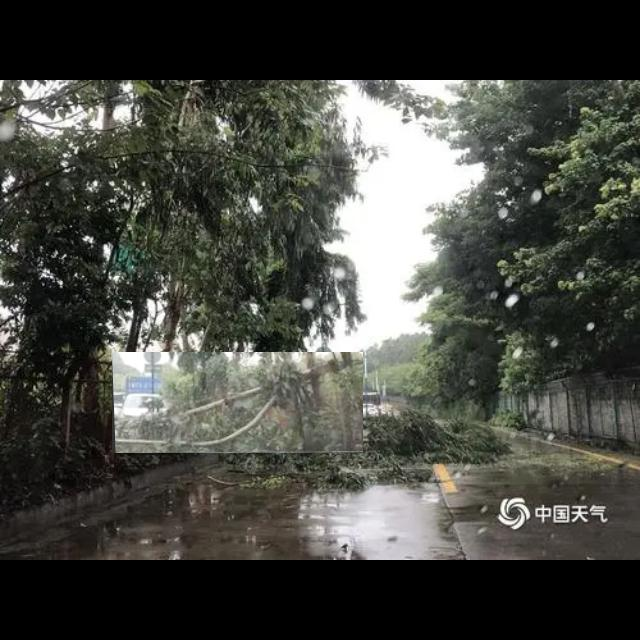Fallen Tree: (112, 352, 364, 454)
